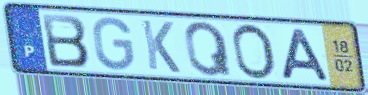A: (278, 27, 333, 82)
B: (39, 12, 92, 69)
G: (91, 15, 136, 72)
K: (139, 17, 183, 75)
O: (230, 22, 279, 82)
Q: (182, 20, 235, 78)
